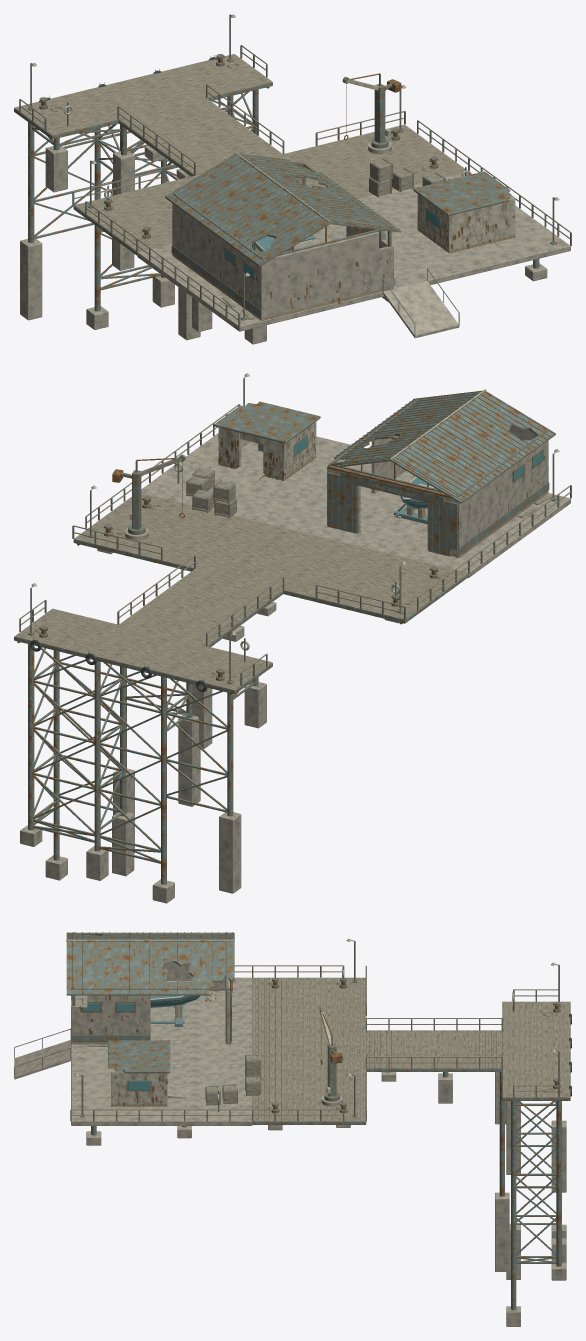
The model's file is Island_Harbor.glb.
The picture shows the model from 3 angles, top to bottom: view 1: azimuth 30°, elevation 25°; view 2: azimuth 150°, elevation 25°; view 3: azimuth 270°, elevation 25°; orthographic projection. The views are drawn at different scales.
Parts seen in each view (by area): view 1: Boat_Shed_Walls_008, Boat_Shed_Roof_010, Shore_Yard_30x16_000, Terrain_Fitted_Piles_004, Dock_Apron_30x10_001, Pier_Head_20x6_003, Pier_8x12_002, Harbor_Office_021, Pile_Cross_Braces_005, Approach_Ramp_006, Boat_Shed_Frame_009, Cargo_Crane_023 (+2 smaller); view 2: Dock_Apron_30x10_001, Terrain_Fitted_Piles_004, Shore_Yard_30x16_000, Boat_Shed_Roof_010, Pile_Cross_Braces_005, Pier_Head_20x6_003, Pier_8x12_002, Boat_Shed_Walls_008, Harbor_Office_021, Shed_Sliding_Doors_011, Boat_Shed_Frame_009, Cargo_Crane_023 (+1 smaller); view 3: Dock_Apron_30x10_001, Shore_Yard_30x16_000, Boat_Shed_Roof_010, Terrain_Fitted_Piles_004, Pier_Head_20x6_003, Pier_8x12_002, Boat_Shed_Walls_008, Harbor_Office_021, Pile_Cross_Braces_005, Boat_Shed_Frame_009, Approach_Ramp_006, Cargo_Crane_023.
Boxes of the visible parts, x1,y1,x2,y2 form: Boat_Shed_Walls_008: (171,166,394,320); Boat_Shed_Roof_010: (165,152,400,266); Shore_Yard_30x16_000: (137,172,570,331); Terrain_Fitted_Piles_004: (20,89,547,344); Dock_Apron_30x10_001: (73,124,464,255); Pier_Head_20x6_003: (14,54,272,140); Pier_8x12_002: (118,98,282,176); Harbor_Office_021: (413,171,515,253); Pile_Cross_Braces_005: (32,91,253,290); Approach_Ramp_006: (383,281,459,338); Boat_Shed_Frame_009: (173,155,392,259); Cargo_Crane_023: (342,73,401,154); Dock_Apron_30x10_001: (73,493,468,624); Terrain_Fitted_Piles_004: (20,549,399,903); Shore_Yard_30x16_000: (141,433,570,577); Boat_Shed_Roof_010: (334,389,555,503); Pile_Cross_Braces_005: (33,646,254,863); Pier_Head_20x6_003: (14,608,272,694); Pier_8x12_002: (119,568,283,646); Boat_Shed_Walls_008: (327,426,549,557); Harbor_Office_021: (214,401,320,480); Shed_Sliding_Doors_011: (327,465,457,558); Boat_Shed_Frame_009: (328,392,547,496); Cargo_Crane_023: (112,454,185,540); Dock_Apron_30x10_001: (252,977,366,1124); Shore_Yard_30x16_000: (71,977,256,1125); Boat_Shed_Roof_010: (66,932,234,995); Terrain_Fitted_Piles_004: (86,1072,566,1326); Pier_Head_20x6_003: (502,1001,570,1100); Pier_8x12_002: (366,1030,502,1071); Boat_Shed_Walls_008: (71,935,229,1044); Harbor_Office_021: (108,1040,170,1106); Pile_Cross_Braces_005: (516,1101,556,1263); Boat_Shed_Frame_009: (71,932,229,1043); Approach_Ramp_006: (14,1040,70,1079); Cargo_Crane_023: (319,1008,342,1106).
Bounding box in the file's own units: 30.12 × 29.91 × 49.16.
Materials: 19 (11 with a texture image).
